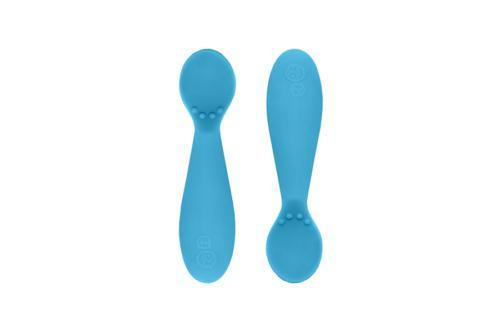Spoon: (265, 49, 323, 283), (178, 49, 236, 283)
